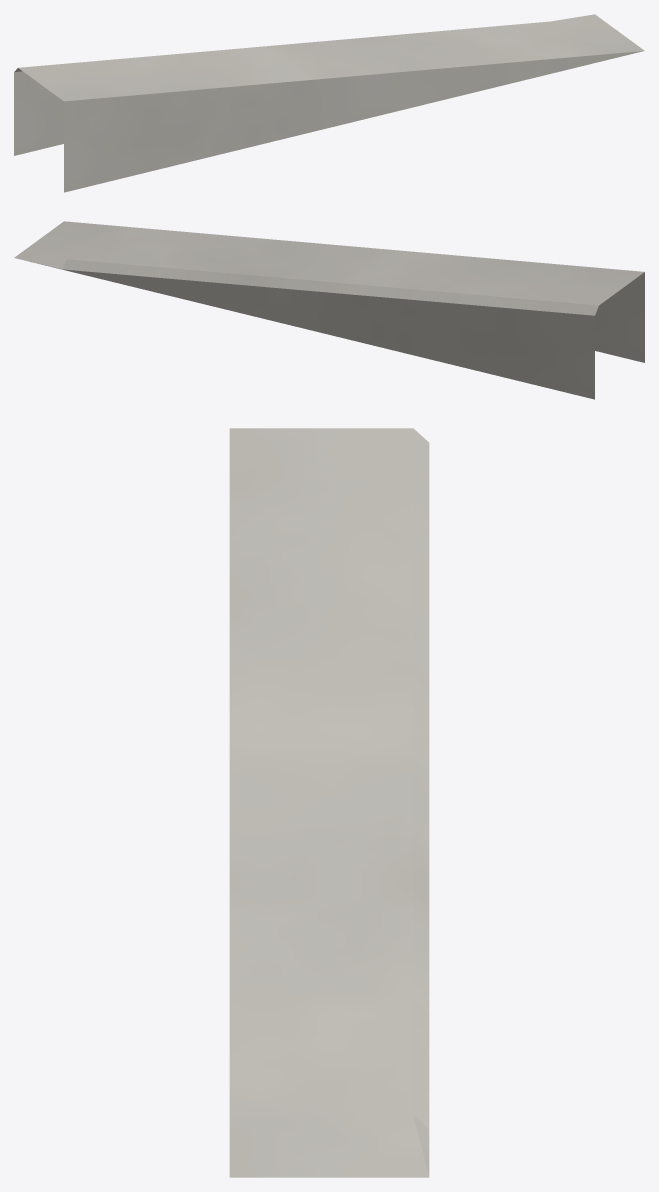
File: strip_zero_cw.obj
3 renders of one model, top to bottom at view 1: azimuth 30°, elevation 25°; view 2: azimuth 150°, elevation 25°; view 3: azimuth 270°, elevation 25°, orthographic. The views are drawn at different scales.
Parts seen in each view (by area): view 1: strip_zero_cw; view 2: strip_zero_cw; view 3: strip_zero_cw.
Part boxes in pixels (box(x1,y1,x2,y2)): strip_zero_cw: box(14, 14, 644, 192); strip_zero_cw: box(14, 221, 644, 399); strip_zero_cw: box(229, 428, 429, 1177).
Bounding box in the file's own units: 1 × 0.15 × 0.149.
